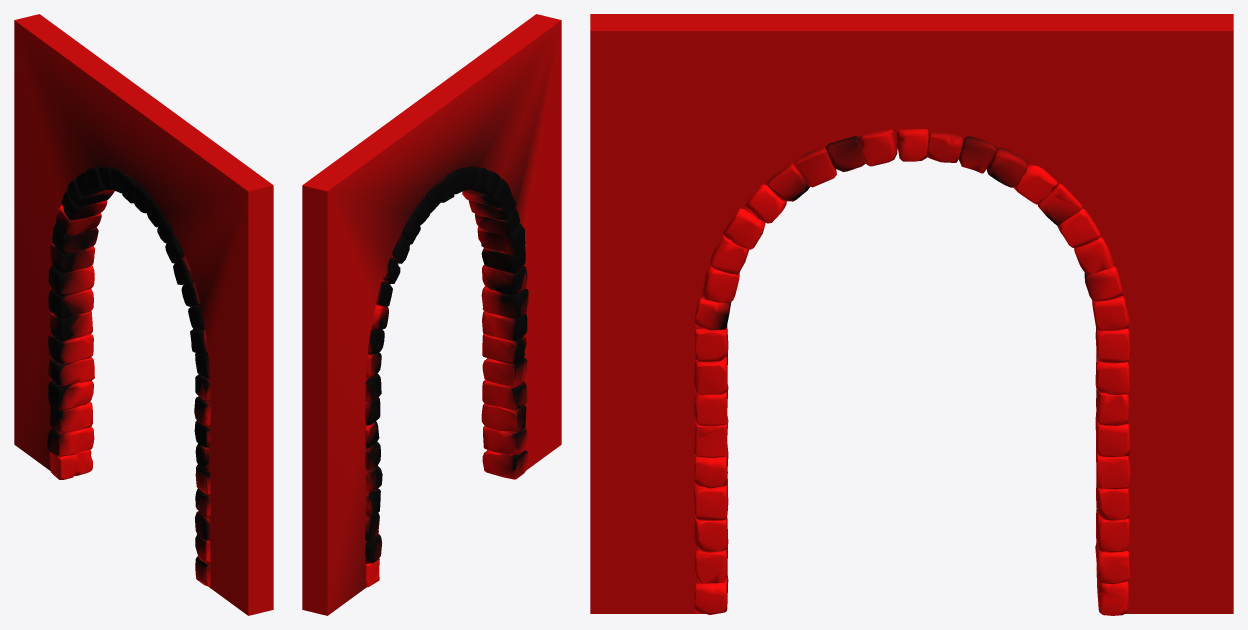
The model's file is SM_ArchWall_Gate_Bricks_8x8_A.fbx.
3 views of the same model, side by side, from view 1: azimuth 30°, elevation 25°; view 2: azimuth 150°, elevation 25°; view 3: azimuth 270°, elevation 25° (orthographic). The views are drawn at different scales.
Visible parts, largest first — view 1: SM_ArchWall_Gate_Bricks_8x8_A_LOD0; view 2: SM_ArchWall_Gate_Bricks_8x8_A_LOD0; view 3: SM_ArchWall_Gate_Bricks_8x8_A_LOD0.
Part boxes in pixels (<box>): SM_ArchWall_Gate_Bricks_8x8_A_LOD0: <box>14,14,273,615</box>; SM_ArchWall_Gate_Bricks_8x8_A_LOD0: <box>302,14,561,615</box>; SM_ArchWall_Gate_Bricks_8x8_A_LOD0: <box>590,14,1233,615</box>.
Size of the model in its own units: 74.44 by 800 by 800.
